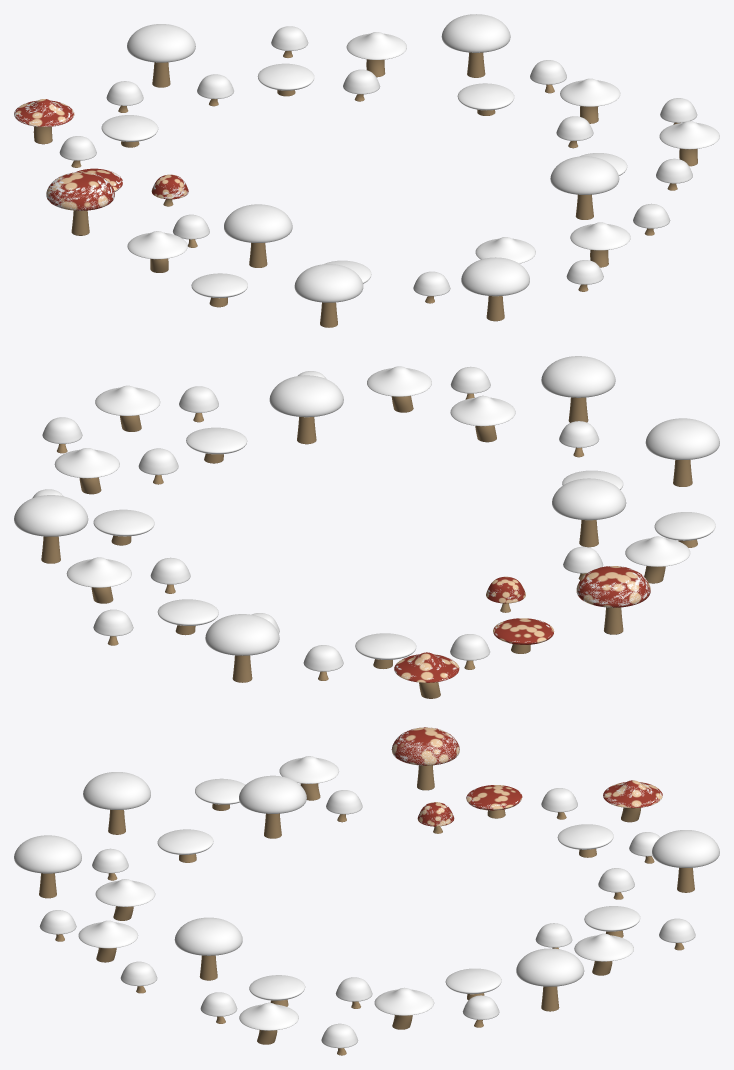
Rendered from fairy_ring.glb.
The picture shows the model from 3 angles, top to bottom: view 1: azimuth 30°, elevation 25°; view 2: azimuth 150°, elevation 25°; view 3: azimuth 270°, elevation 25°; orthographic projection. The views are drawn at different scales.
Visible parts, largest first — view 1: Mushroom1.002, Mushroom1.004, Mushroom1.003, Mushroom1.005, Mushroom1.001, Mushroom1.006, Bake1, Mushroom3.003, Mushroom3.006, Mushroom3.004, Mushroom3.005, Bake3 (+22 smaller); view 2: Mushroom1.006, Mushroom1.004, Mushroom1.001, Mushroom1.002, Mushroom1.005, Mushroom1.003, Bake1, Mushroom3.001, Mushroom3.002, Mushroom3.004, Mushroom3.006, Mushroom3.005 (+21 smaller); view 3: Mushroom1.004, Mushroom1.001, Mushroom1.005, Mushroom1.003, Mushroom1.002, Mushroom1.006, Bake1, Mushroom3.002, Mushroom3.005, Mushroom3.003, Mushroom3.006, Mushroom3.004 (+24 smaller).
Boxes of the visible parts, x1,y1,x2,y2 form: Mushroom1.002: (294, 264, 363, 327); Mushroom1.004: (550, 156, 619, 219); Mushroom1.003: (461, 257, 529, 321); Mushroom1.005: (441, 14, 510, 77); Mushroom1.001: (224, 204, 292, 267); Mushroom1.006: (127, 24, 195, 87); Bake1: (46, 172, 114, 235); Mushroom3.003: (570, 222, 630, 267); Mushroom3.006: (346, 32, 406, 77); Mushroom3.004: (659, 121, 719, 166); Mushroom3.005: (560, 78, 620, 123); Bake3: (14, 99, 74, 144); Mushroom1.006: (205, 614, 279, 682); Mushroom1.004: (269, 375, 343, 444); Mushroom1.001: (552, 478, 626, 547); Mushroom1.002: (645, 418, 719, 486); Mushroom1.005: (14, 495, 88, 563); Mushroom1.003: (541, 356, 615, 422); Bake1: (576, 566, 650, 634); Mushroom3.001: (625, 536, 690, 583); Mushroom3.002: (450, 395, 515, 442); Mushroom3.004: (95, 385, 160, 431); Mushroom3.006: (66, 557, 131, 603); Mushroom3.005: (54, 448, 119, 494); Mushroom1.004: (174, 917, 242, 980); Mushroom1.001: (239, 775, 306, 838); Mushroom1.005: (516, 948, 584, 1011); Mushroom1.003: (14, 835, 81, 898); Mushroom1.002: (83, 772, 150, 834); Mushroom1.006: (652, 830, 719, 892); Bake1: (391, 727, 459, 790); Mushroom3.002: (95, 879, 155, 920); Mushroom3.005: (374, 987, 434, 1029); Mushroom3.003: (78, 920, 138, 962); Mushroom3.006: (574, 933, 633, 975); Mushroom3.004: (239, 1002, 298, 1044).
Size of the model in its own units: 72.42 by 6.68 by 74.64.
Materials: 6 (4 with a texture image).
